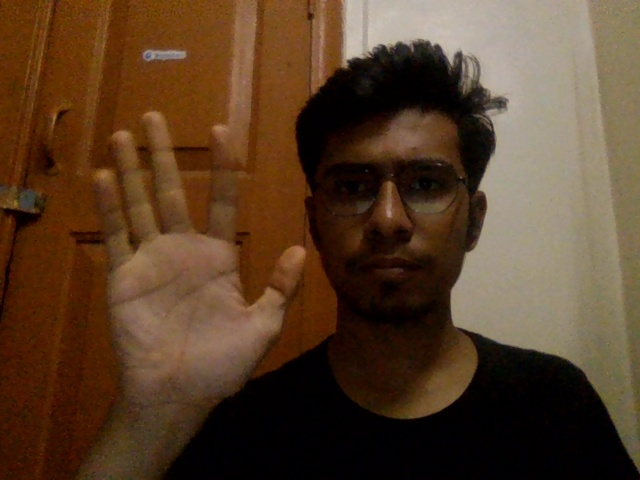Hello: (86, 103, 307, 402)
